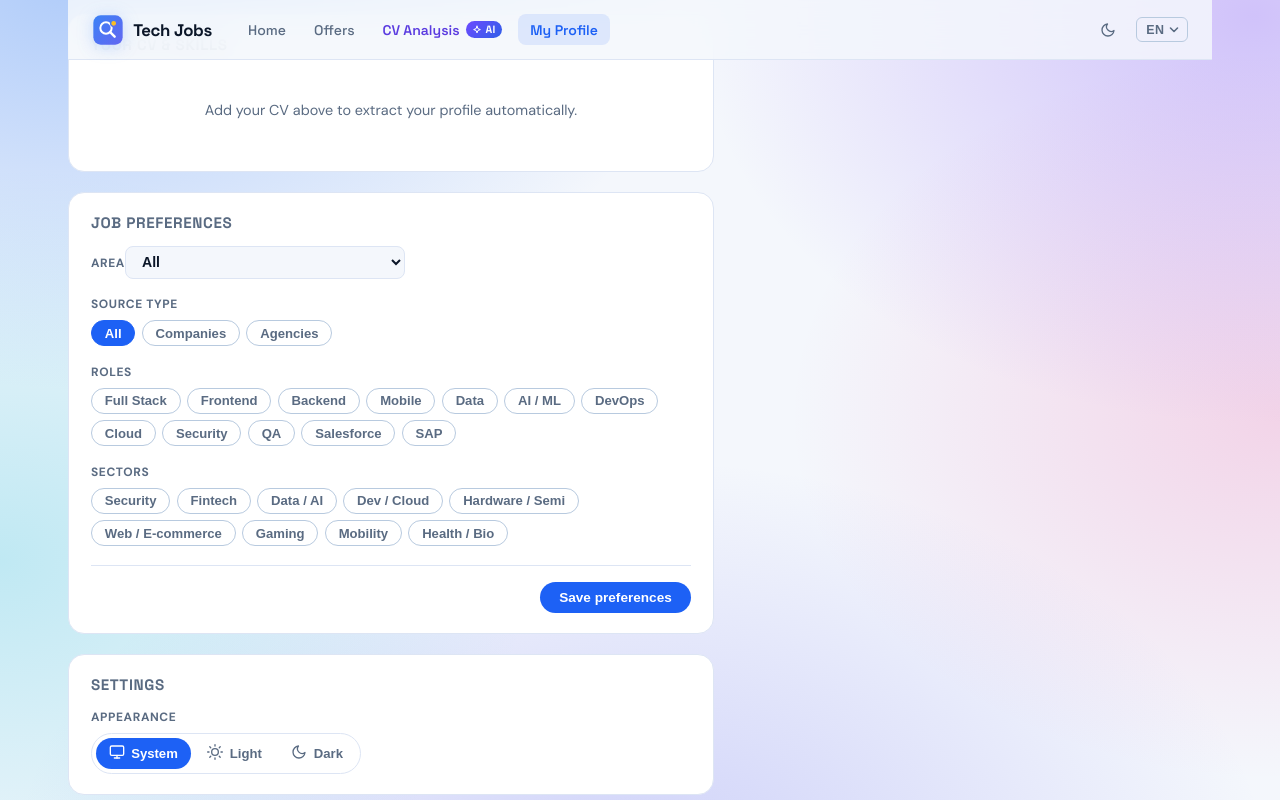
ProfilePage (integration) › toggles preference chips and saves them to the device
The image size is (1280, 800).
(page scrolled)
Expected: the heading "Job preferences" is shown, top-left (91, 213), bottom-right (232, 232)
Click the button "Frontend". click: (229, 401)
box: top-left (187, 388), bottom-right (271, 414)
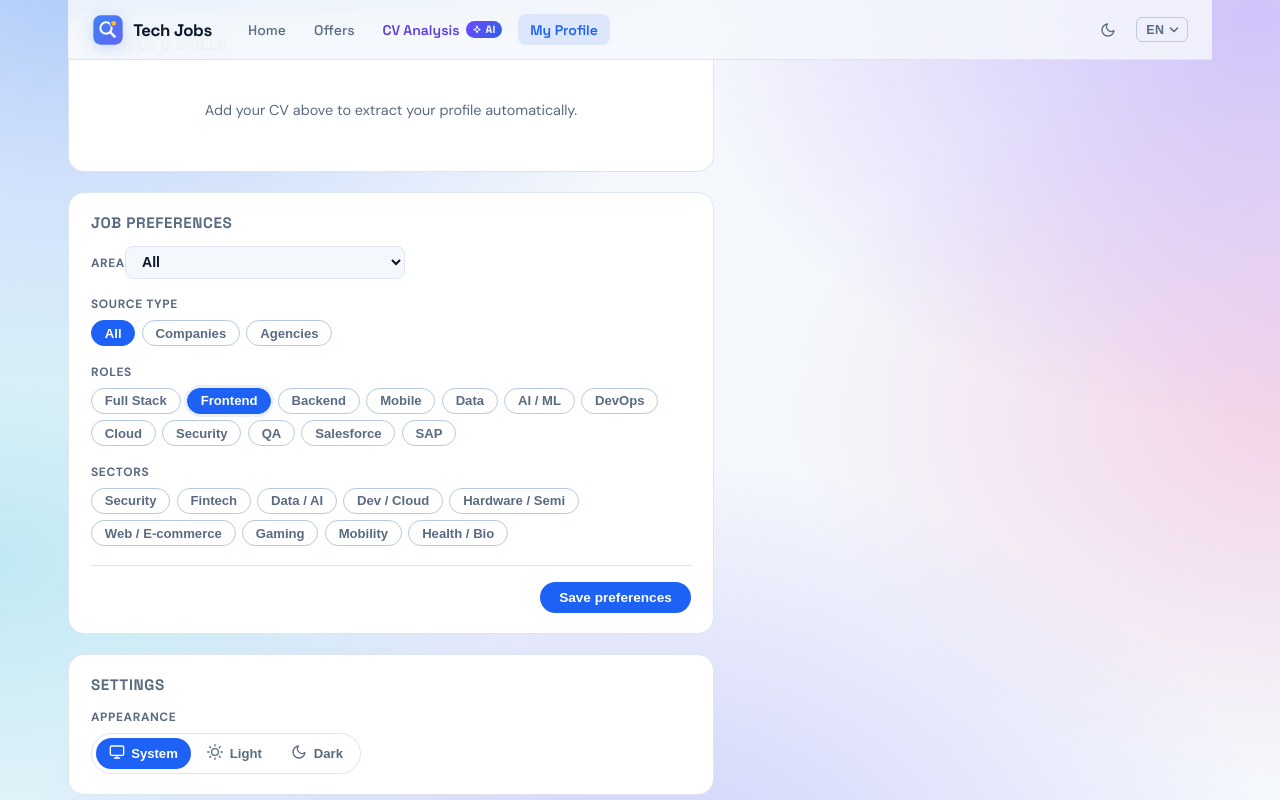
Click the button "Agencies". click: (289, 333)
box: top-left (246, 320), bottom-right (332, 346)
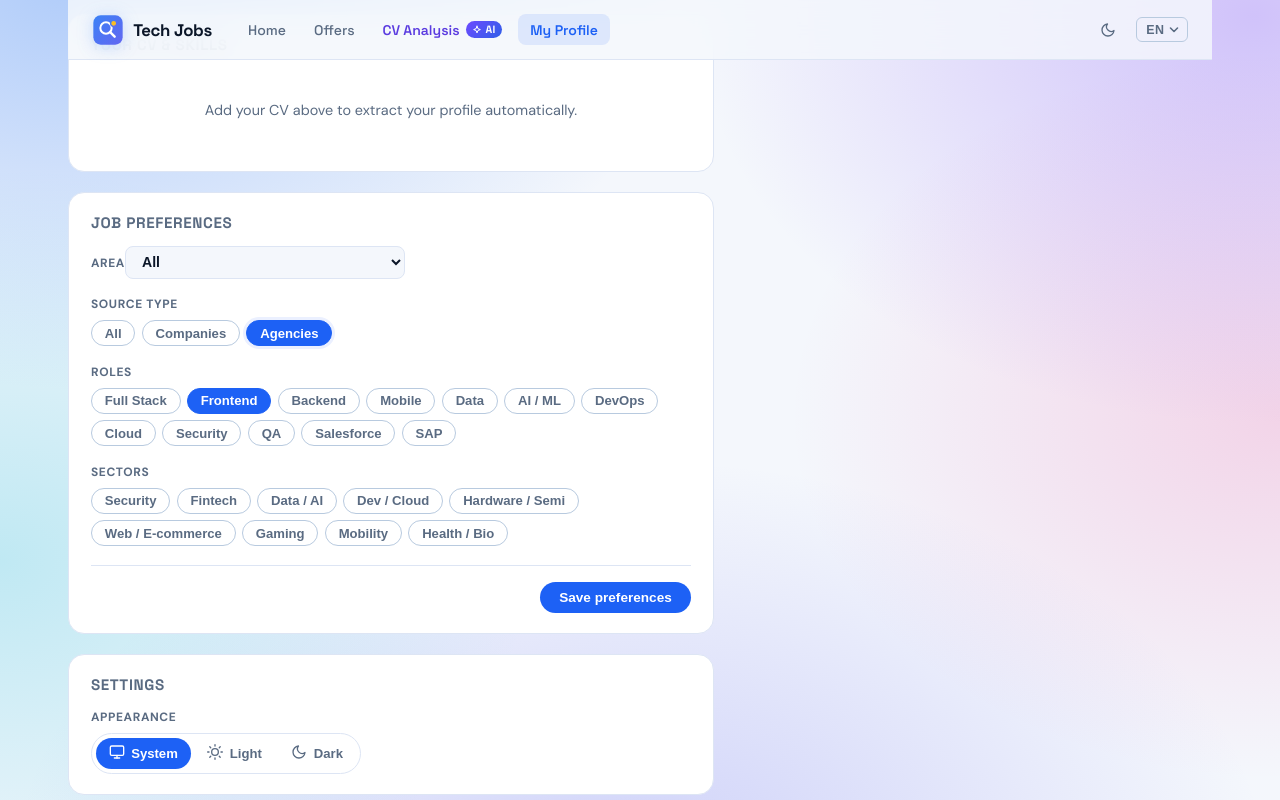
Click the button "Fintech". click: (214, 501)
box: top-left (177, 488), bottom-right (251, 514)
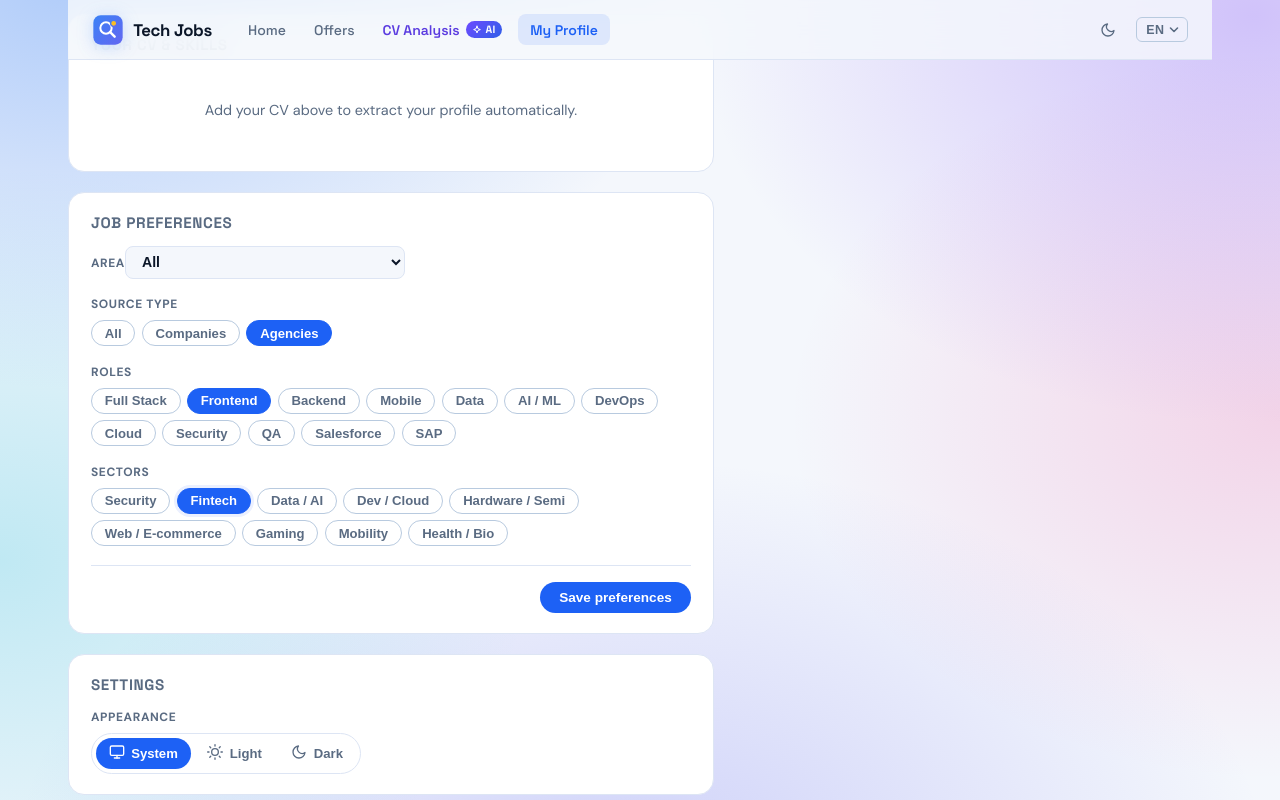
Select "Tel Aviv" in the dropdown labelled "Area". click: (265, 262)
box: top-left (125, 246), bottom-right (405, 279)
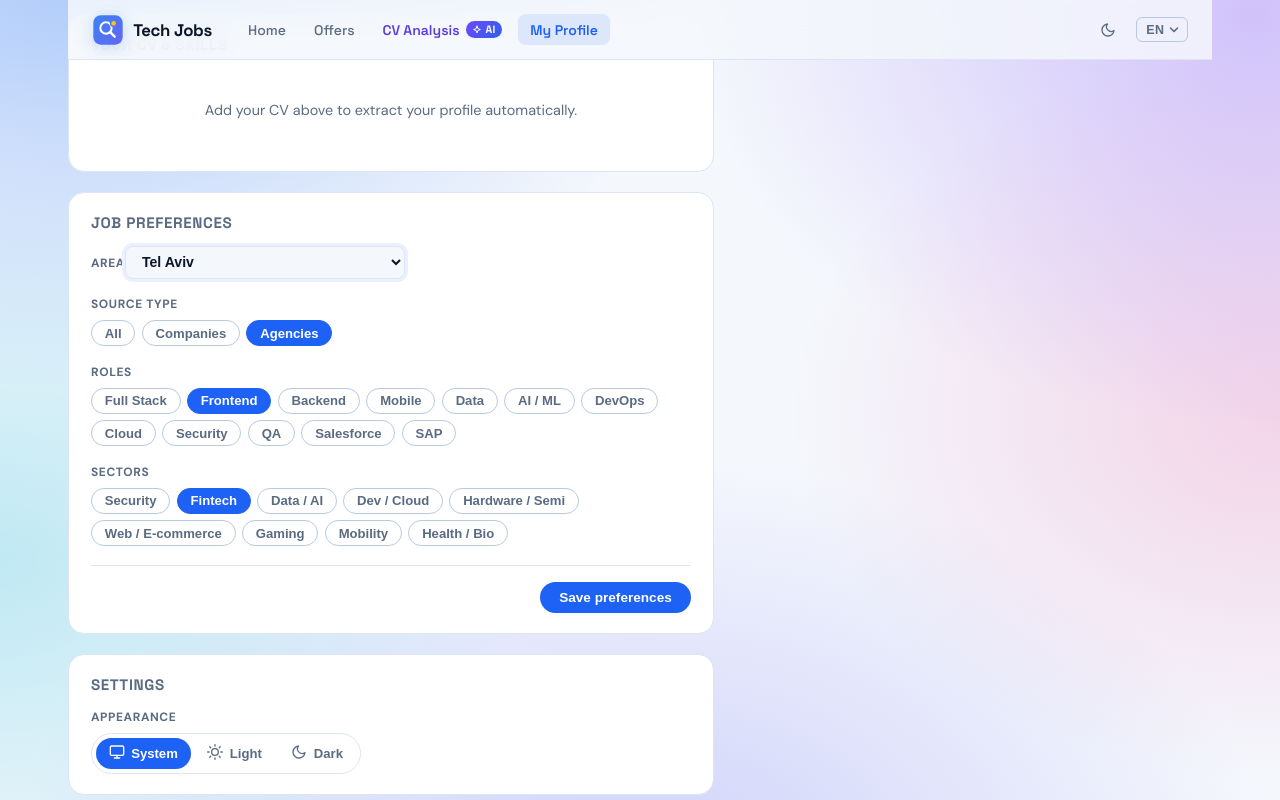
Expected: the button "Frontend" is pressed, top-left (187, 388), bottom-right (271, 414)
Click the button "Save preferences". click: (616, 598)
box: top-left (540, 582), bottom-right (691, 613)
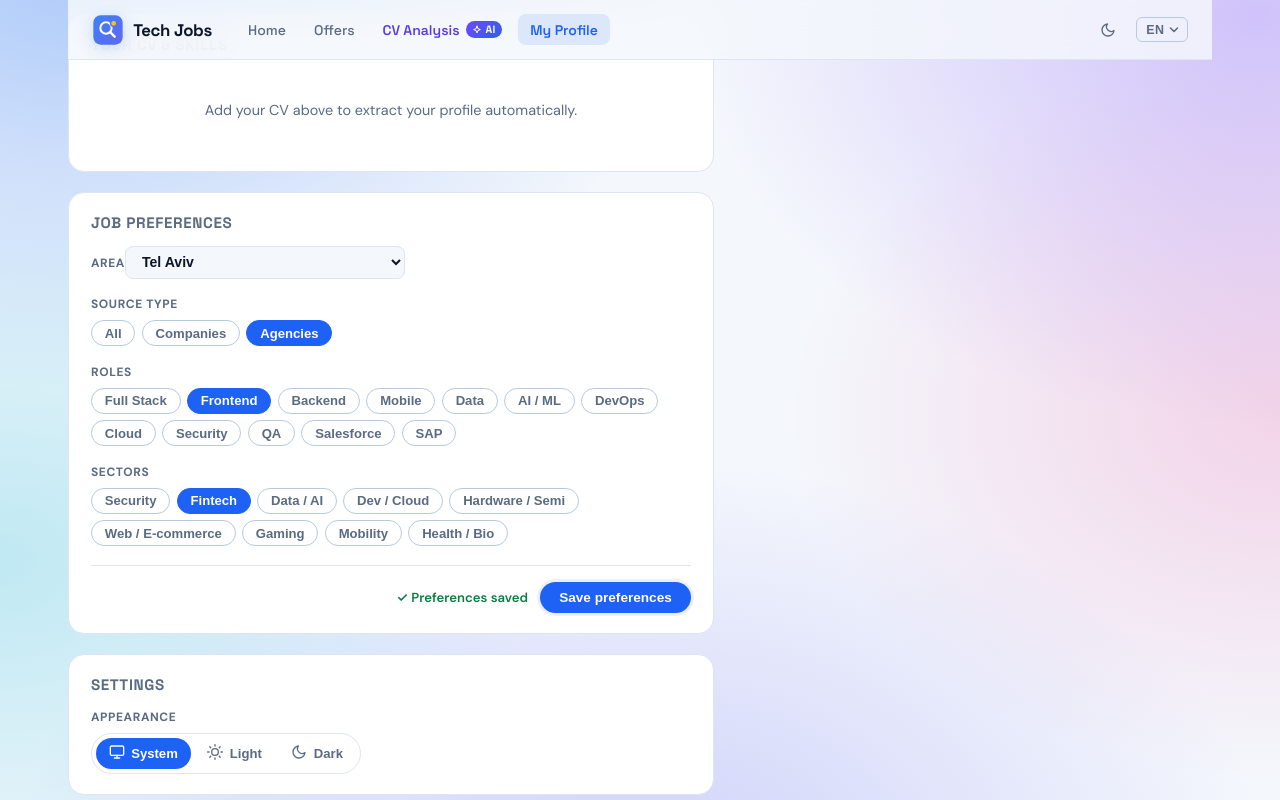
Expected: the text "✓ Preferences saved" is shown, top-left (396, 589), bottom-right (528, 606)
